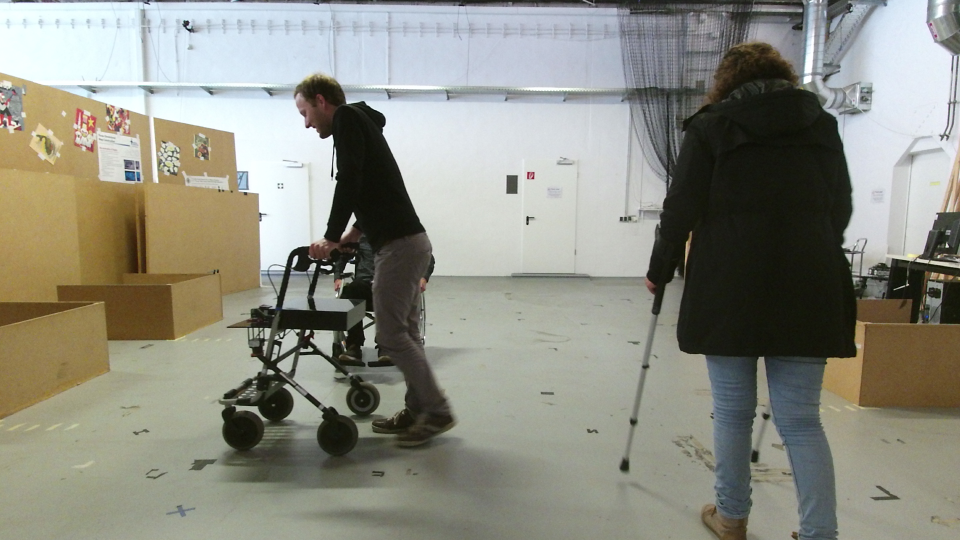crutches: (613, 38, 864, 540)
